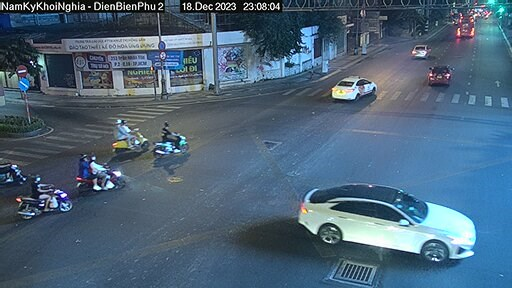bus: (453, 12, 476, 38)
car: (298, 156, 477, 265), (326, 66, 376, 108), (425, 57, 465, 88), (407, 37, 435, 67)
motorbike: (13, 177, 82, 223), (67, 148, 133, 196), (103, 114, 156, 160), (150, 125, 192, 163), (3, 151, 27, 189)
